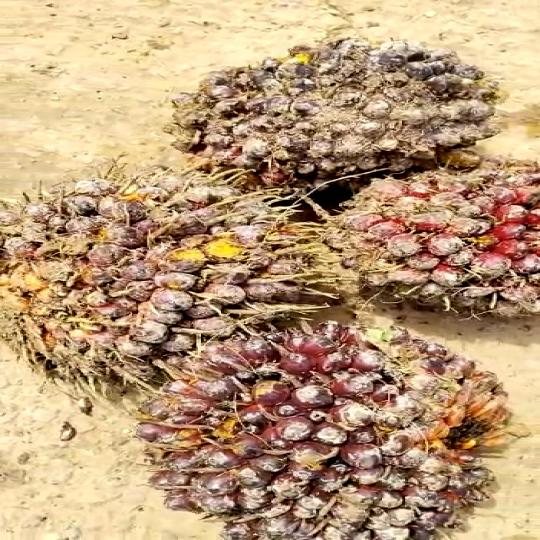kurang masak: (136, 314, 516, 540), (0, 169, 328, 382), (185, 34, 526, 182), (332, 151, 540, 333)
